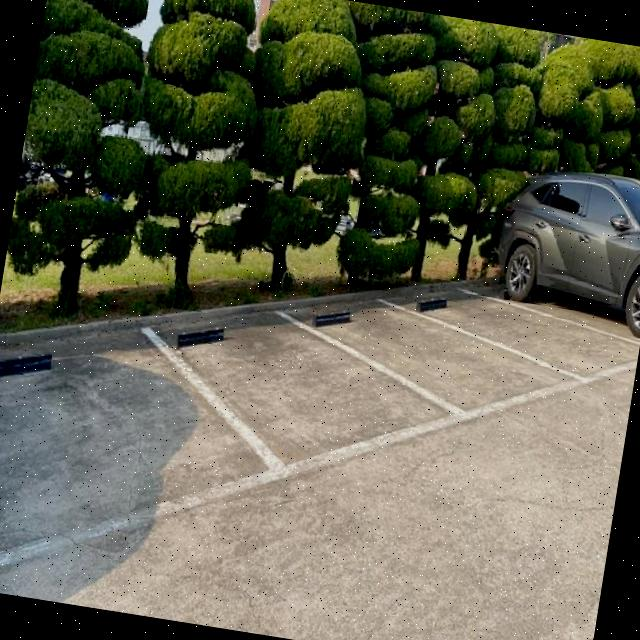empty: (0, 318, 200, 558), (172, 303, 366, 478), (344, 290, 484, 433), (456, 268, 580, 396)
